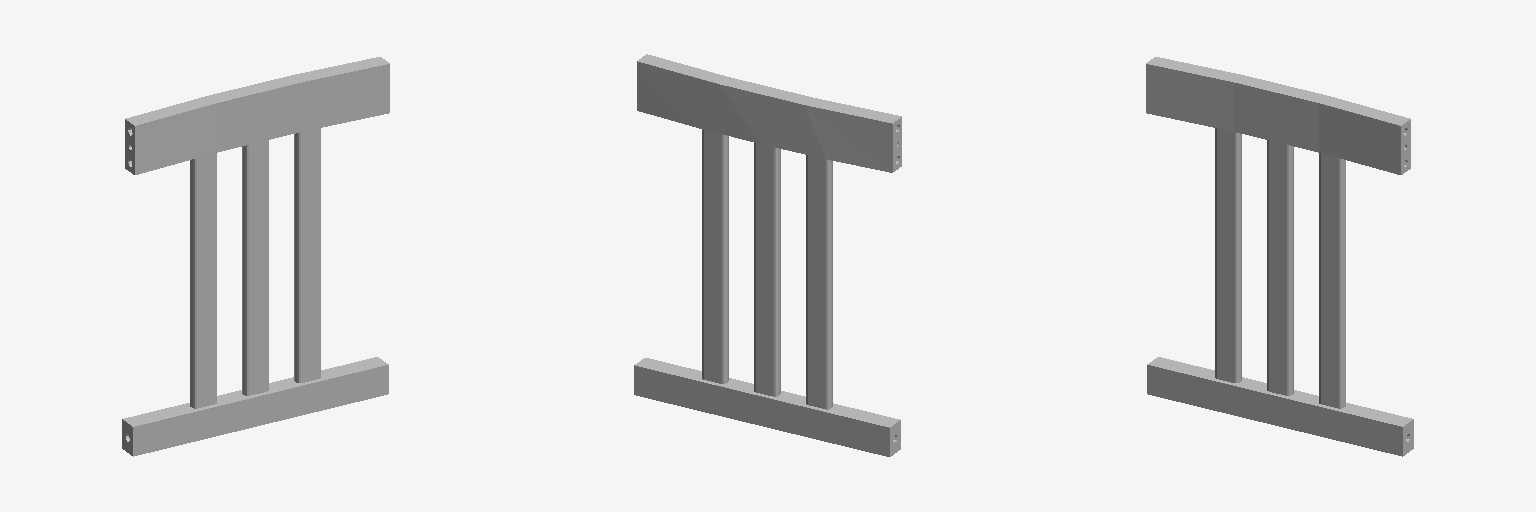
File: ikea_stefan_middle.obj
3 renders of one model, left to right at view 1: azimuth 30°, elevation 25°; view 2: azimuth 150°, elevation 25°; view 3: azimuth 330°, elevation 25°, orthographic.
Visible parts, largest first — view 1: Ikea_Stefan_Middle; view 2: Ikea_Stefan_Middle; view 3: Ikea_Stefan_Middle.
Part boxes in pixels (bbox=[...]): Ikea_Stefan_Middle: bbox=[122, 57, 389, 456]; Ikea_Stefan_Middle: bbox=[634, 54, 901, 456]; Ikea_Stefan_Middle: bbox=[1146, 57, 1413, 456].
Size of the model in its own units: 0.27 by 0.335 by 0.0241.